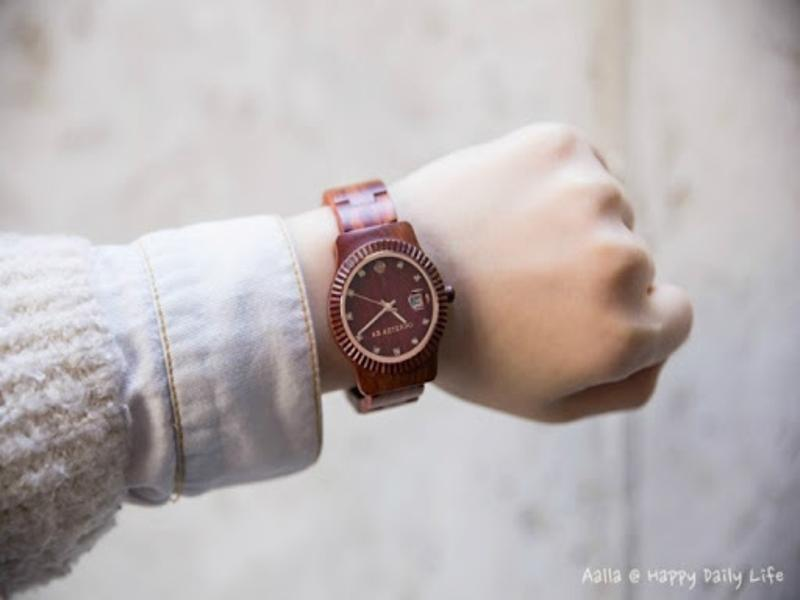watch: (317, 169, 454, 415)
